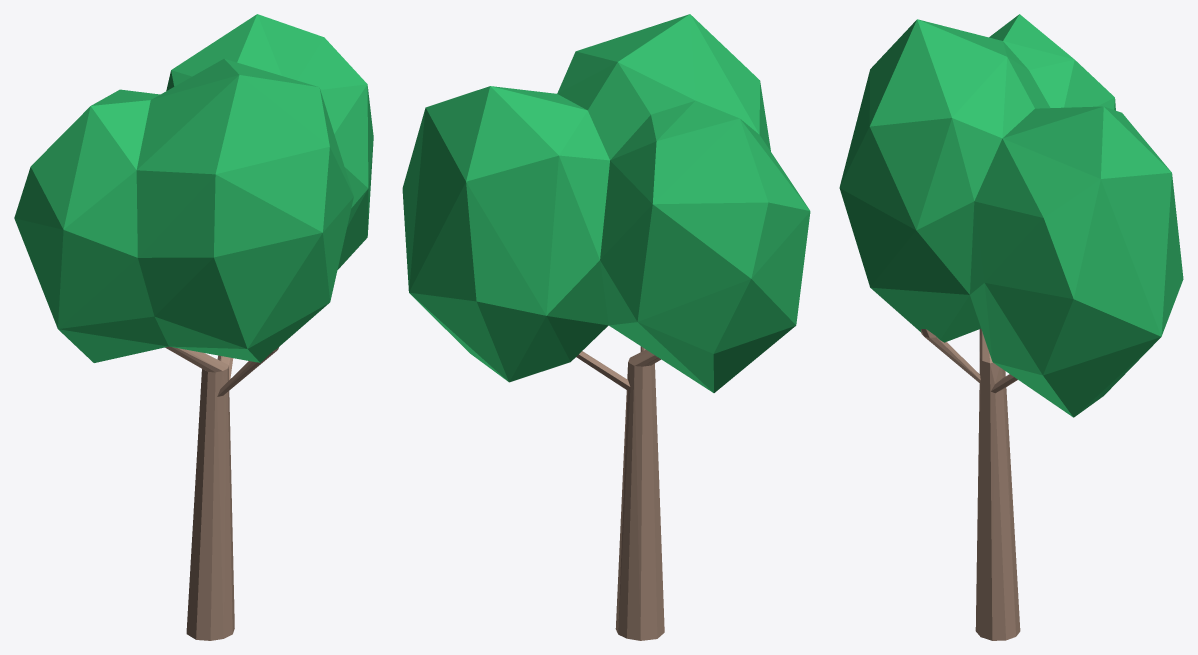
Rendered from tree6.fbx.
3 renders of one model, left to right at view 1: azimuth 30°, elevation 25°; view 2: azimuth 150°, elevation 25°; view 3: azimuth 270°, elevation 25°, orthographic. The views are drawn at different scales.
Parts seen in each view (by area): view 1: treetype6; view 2: treetype6; view 3: treetype6.
Part boxes in pixels (box(x1,y1,x2,y2)): treetype6: box(14, 14, 373, 640); treetype6: box(402, 14, 810, 640); treetype6: box(839, 14, 1183, 640).
Size of the model in its own units: 138 by 216 by 111.
